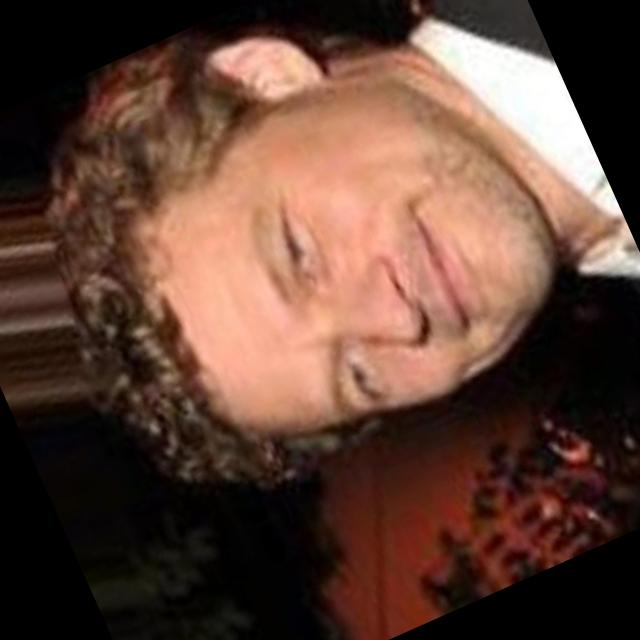bareface: (88, 0, 565, 474)
